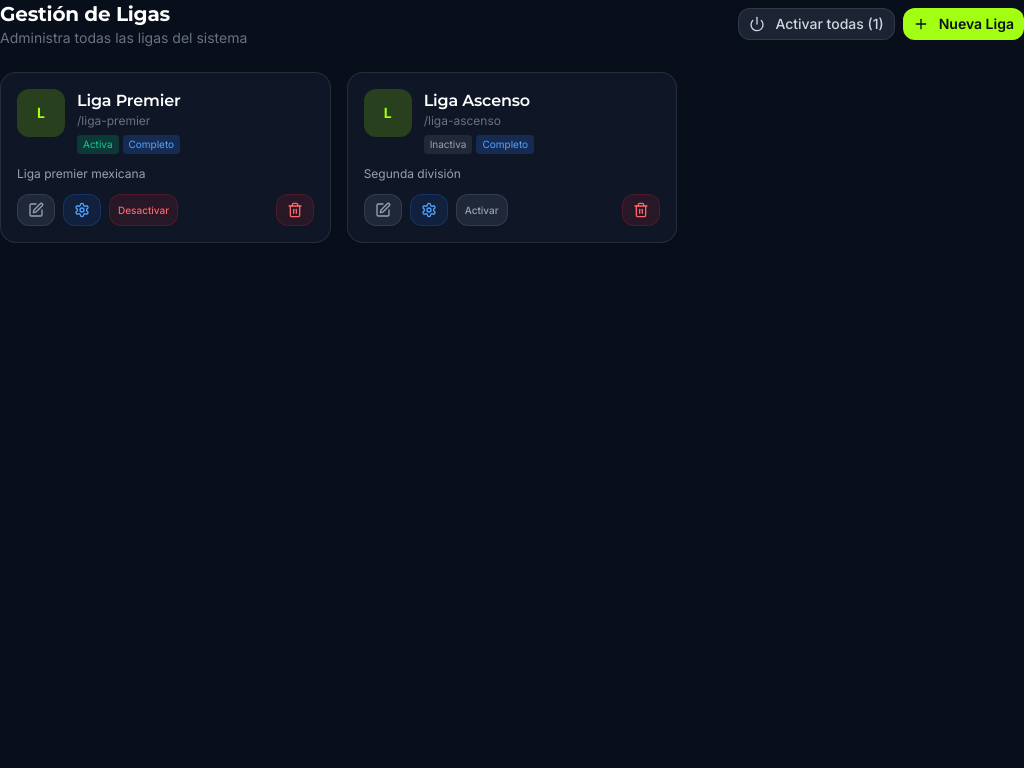
Test: Change the admin of a league › edits the name, email and phone of the admin with PATCH /admin/users/{id}
The width and height of the screenshot is (1024, 768).
Check: the heading "Liga Premier" is shown, box [77, 91, 181, 110]
Click the button named "editar " at x=36, y=210, box [17, 194, 55, 226]
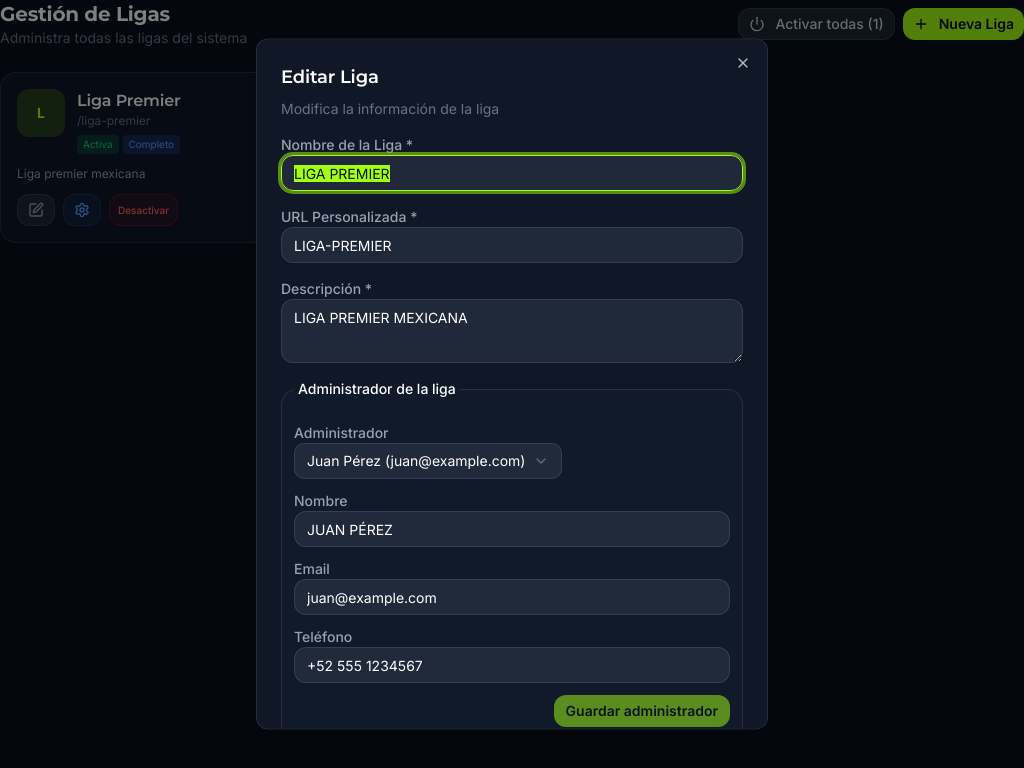
Replace the text in the field labelled "Teléfono" with "5551112222" at x=512, y=665, box [294, 647, 730, 683]
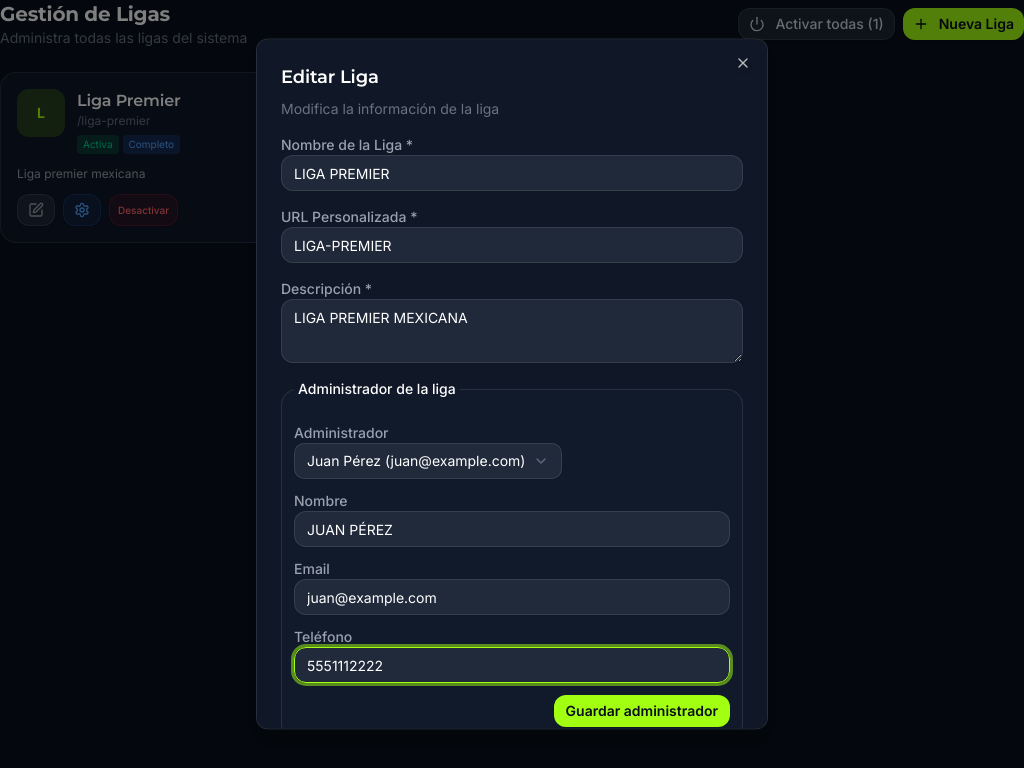
Click the button "Guardar administrador" at x=642, y=711, box [554, 695, 730, 727]
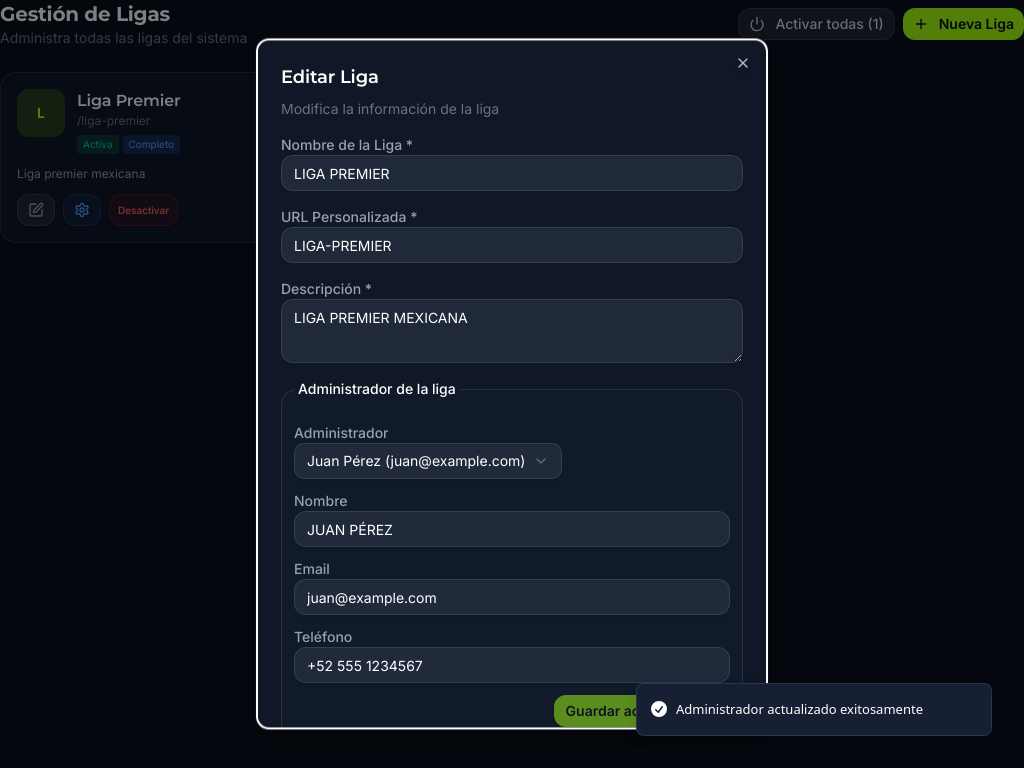
Check: the text "Administrador actualizado exitosamente" is shown, box [676, 700, 923, 719]
